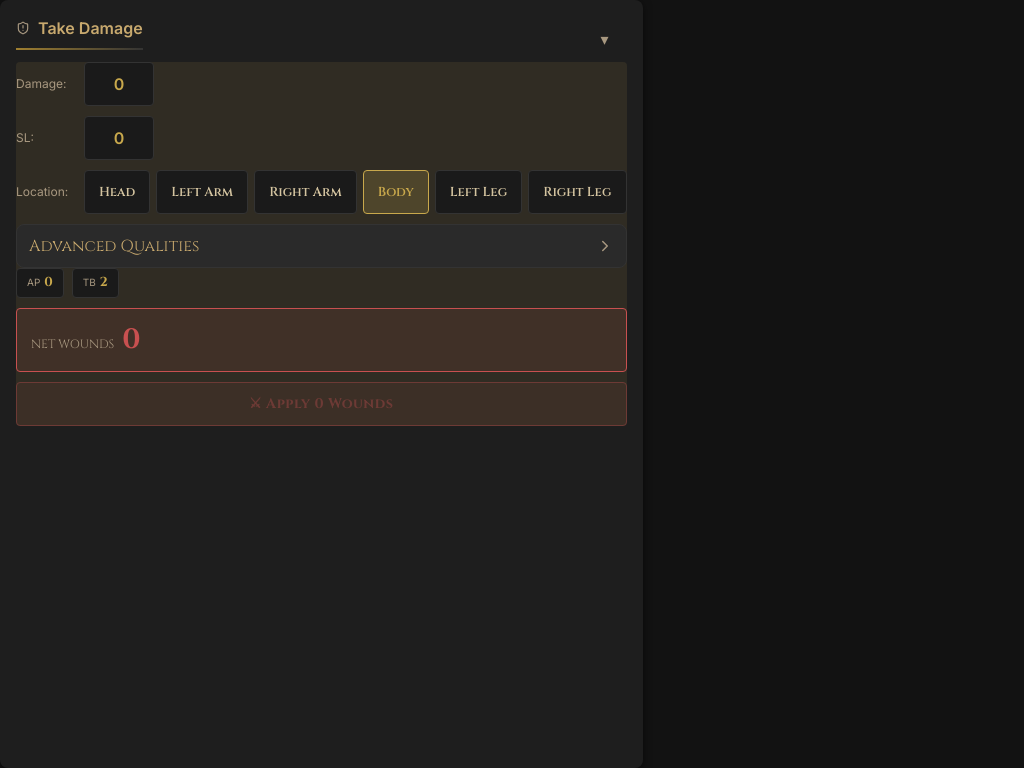
Integration: TakeDamagePanel Critical Wound flow › Critical wound notification content verification › displays a descriptive explanation for no modifier
The image size is (1024, 768).
Replace the text in the number field named "Incoming damage" with "10" at (119, 84), box [84,62,154,106]
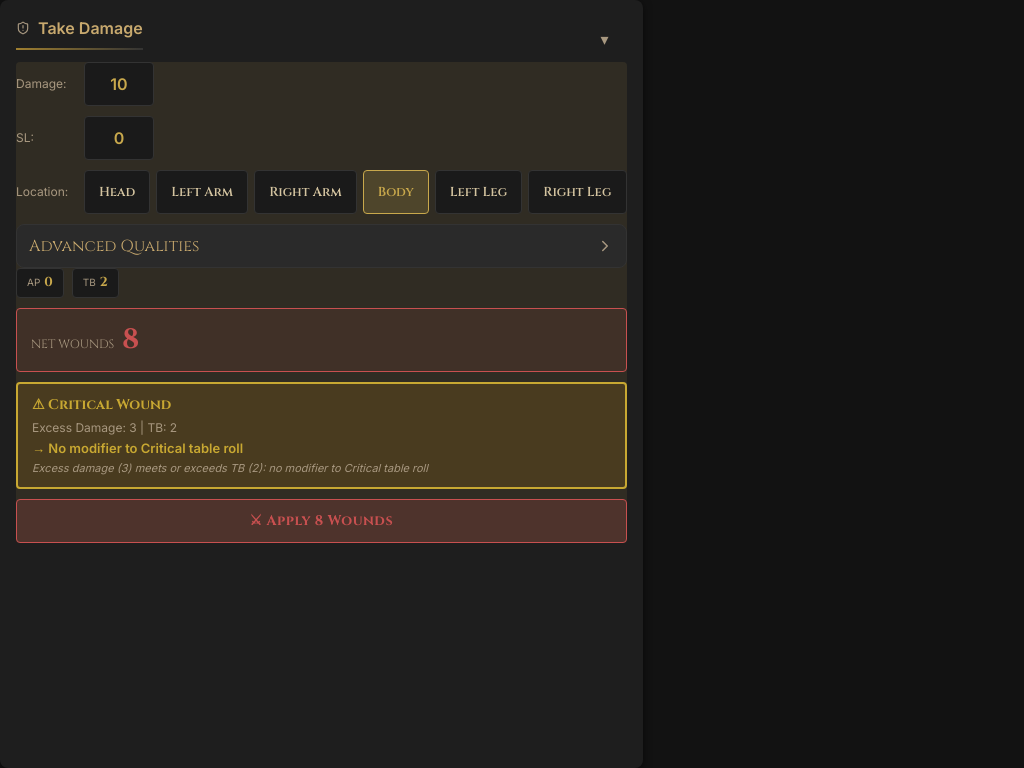
Check: the message with test id "critical-wound-notification" shows "meets or exceeds TB", box [32,461,428,475]
